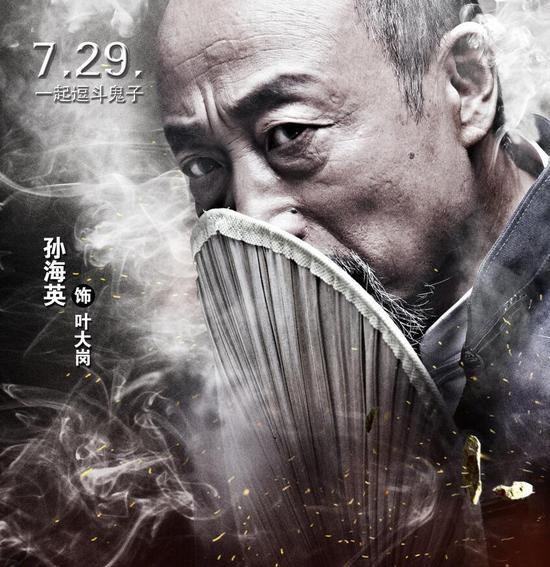face: (167, 1, 438, 376)
